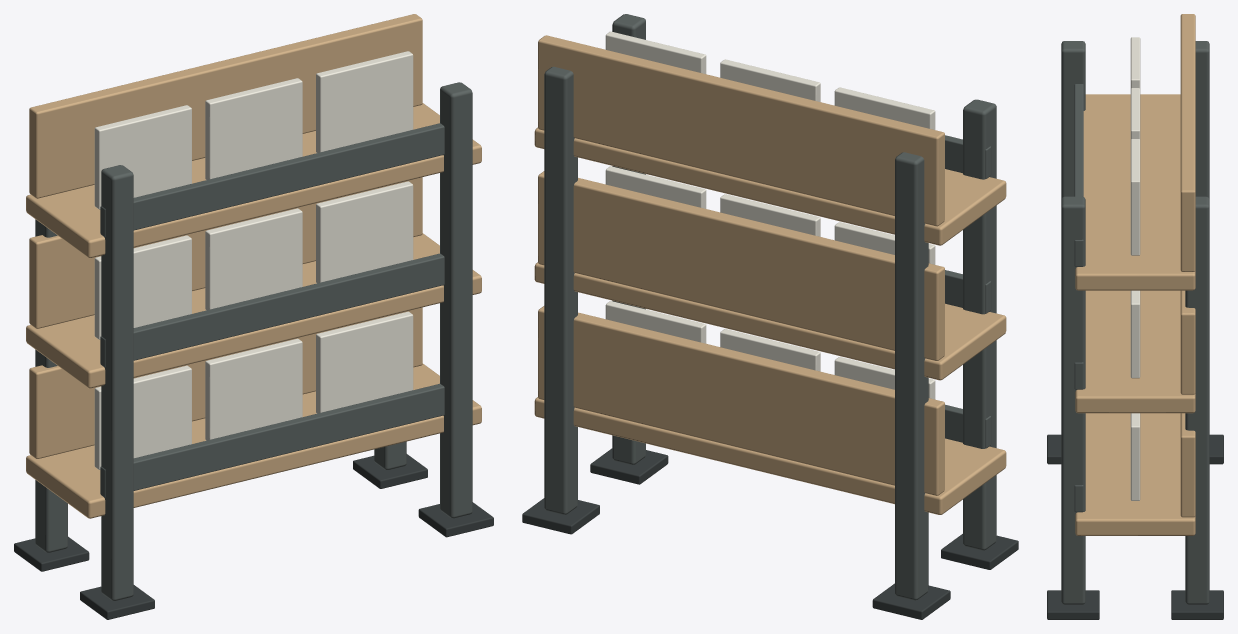
Rendered from public-library-and-reading-garden-public-library-and-r-c25384b5__30927.glb.
3 views of the same model, side by side, from view 1: azimuth 30°, elevation 25°; view 2: azimuth 150°, elevation 25°; view 3: azimuth 270°, elevation 25° (orthographic). The views are drawn at different scales.
Visible parts, largest first — view 1: public-library-and-reading-garden-periodical-display-rack; view 2: public-library-and-reading-garden-periodical-display-rack; view 3: public-library-and-reading-garden-periodical-display-rack.
Part boxes in pixels (x1,y1,x2,y2): public-library-and-reading-garden-periodical-display-rack: [14, 14, 493, 619]; public-library-and-reading-garden-periodical-display-rack: [522, 14, 1018, 619]; public-library-and-reading-garden-periodical-display-rack: [1047, 14, 1223, 619].
Bounding box in the file's own units: 1.14 × 1.26 × 0.47.
